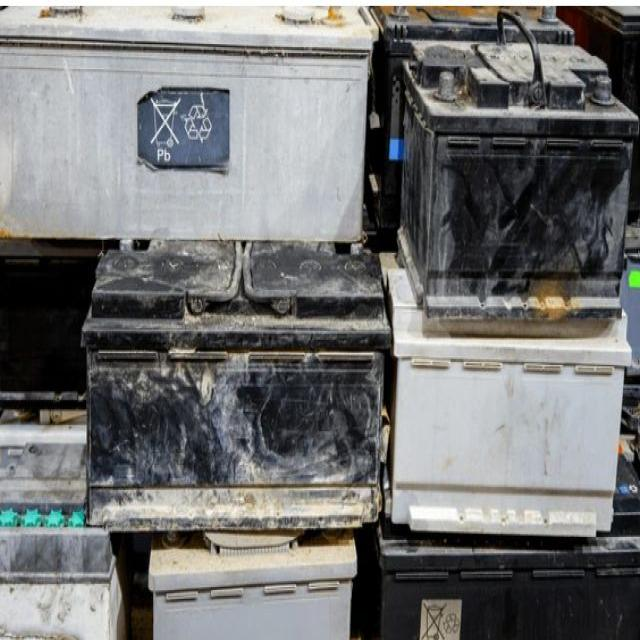electronic: (85, 228, 402, 563)
